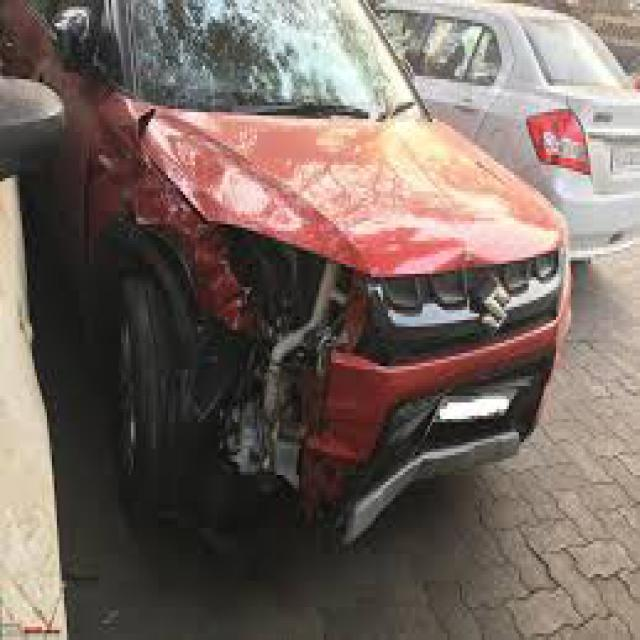bonnet-dent: (158, 109, 561, 280)
fender-dent: (82, 99, 164, 373)
front-bumper-dent: (215, 320, 571, 502)
